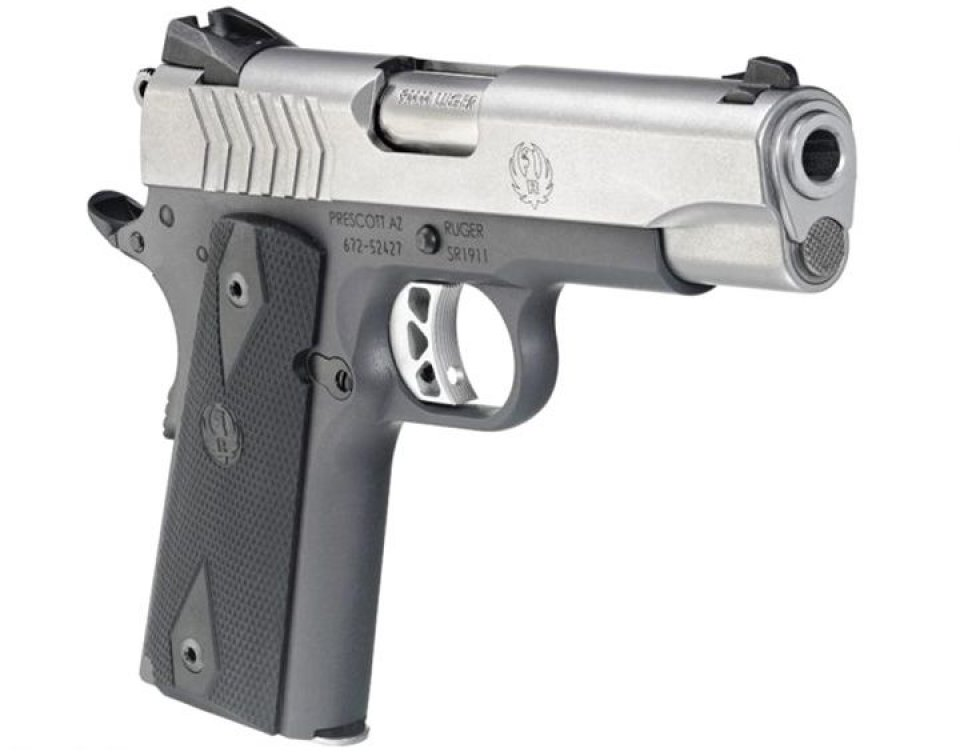weapon: (125, 1, 847, 747)
